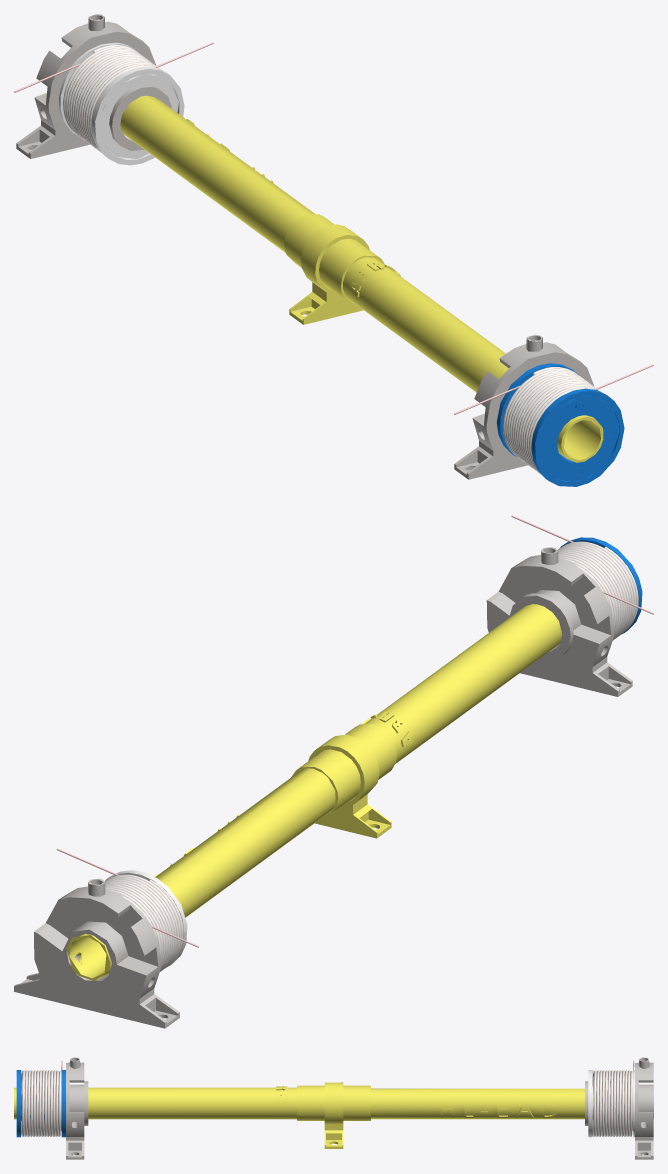
The model's file is gauss_cannon_low.glb.
3 views of the same model, one above another, from view 1: azimuth 30°, elevation 25°; view 2: azimuth 150°, elevation 25°; view 3: azimuth 270°, elevation 25° (orthographic). The views are drawn at different scales.
Parts seen in each view (by area): view 1: Tubo_para_Bobinas_Entrada-2, Tubo_para_Bobinas_Salida-2, mesh_9_8, Modulo_de_Sensores-4, Modulo_de_Sensores-3, mesh_0_8, mesh_0_1, mesh_9_1, Soporte_del_Tubo_Medio-2, Conector_para_Tubo_Final-1, Anillo_Final-1; view 2: Modulo_de_Sensores-3, Tubo_para_Bobinas_Salida-2, Tubo_para_Bobinas_Entrada-2, Modulo_de_Sensores-4, Soporte_del_Tubo_Medio-2, Conector_para_Tubo_Final-1, mesh_9, mesh_0, mesh_9_1, mesh_0_1, Anillo_Final-2; view 3: Tubo_para_Bobinas_Entrada-2, Tubo_para_Bobinas_Salida-2, mesh_9_1, mesh_0_1, Conector_para_Tubo_Final-1, Modulo_de_Sensores-3, Modulo_de_Sensores-4, mesh_9, mesh_0, Soporte_del_Tubo_Medio-2, mesh_9_8, mesh_0_8 (+4 smaller).
Boxes of the visible parts, x1,y1,x2,y2 form: Tubo_para_Bobinas_Entrada-2: (343, 257, 603, 462); Tubo_para_Bobinas_Salida-2: (120, 95, 315, 252); mesh_9_8: (496, 363, 624, 486); Modulo_de_Sensores-4: (454, 334, 594, 479); Modulo_de_Sensores-3: (16, 14, 156, 158); mesh_0_8: (59, 42, 184, 165); mesh_0_1: (63, 45, 162, 153); mesh_9_1: (503, 367, 602, 474); Soporte_del_Tubo_Medio-2: (289, 224, 369, 324); Conector_para_Tubo_Final-1: (284, 214, 384, 304); Anillo_Final-1: (109, 85, 171, 150); Modulo_de_Sensores-3: (14, 878, 179, 1028); Tubo_para_Bobinas_Salida-2: (67, 768, 335, 980); Tubo_para_Bobinas_Entrada-2: (362, 604, 562, 763); Modulo_de_Sensores-4: (486, 547, 632, 696); Soporte_del_Tubo_Medio-2: (308, 734, 391, 838); Conector_para_Tubo_Final-1: (291, 724, 396, 818); mesh_9: (557, 542, 637, 639); mesh_0: (104, 875, 182, 971); mesh_9_1: (557, 541, 638, 640); mesh_0_1: (104, 874, 183, 971); Anillo_Final-2: (509, 593, 573, 661); Tubo_para_Bobinas_Entrada-2: (14, 1086, 296, 1119); Tubo_para_Bobinas_Salida-2: (371, 1088, 653, 1119); mesh_9_1: (21, 1070, 60, 1136); mesh_0_1: (592, 1070, 632, 1136); Conector_para_Tubo_Final-1: (297, 1085, 370, 1120); Modulo_de_Sensores-3: (635, 1057, 653, 1159); Modulo_de_Sensores-4: (66, 1057, 84, 1159); mesh_9: (21, 1070, 61, 1136); mesh_0: (592, 1070, 633, 1136); Soporte_del_Tubo_Medio-2: (324, 1082, 343, 1148); mesh_9_8: (16, 1070, 65, 1137); mesh_0_8: (588, 1070, 634, 1137).
Bounding box in the file's own units: 0.1026 × 0.069 × 0.52.
